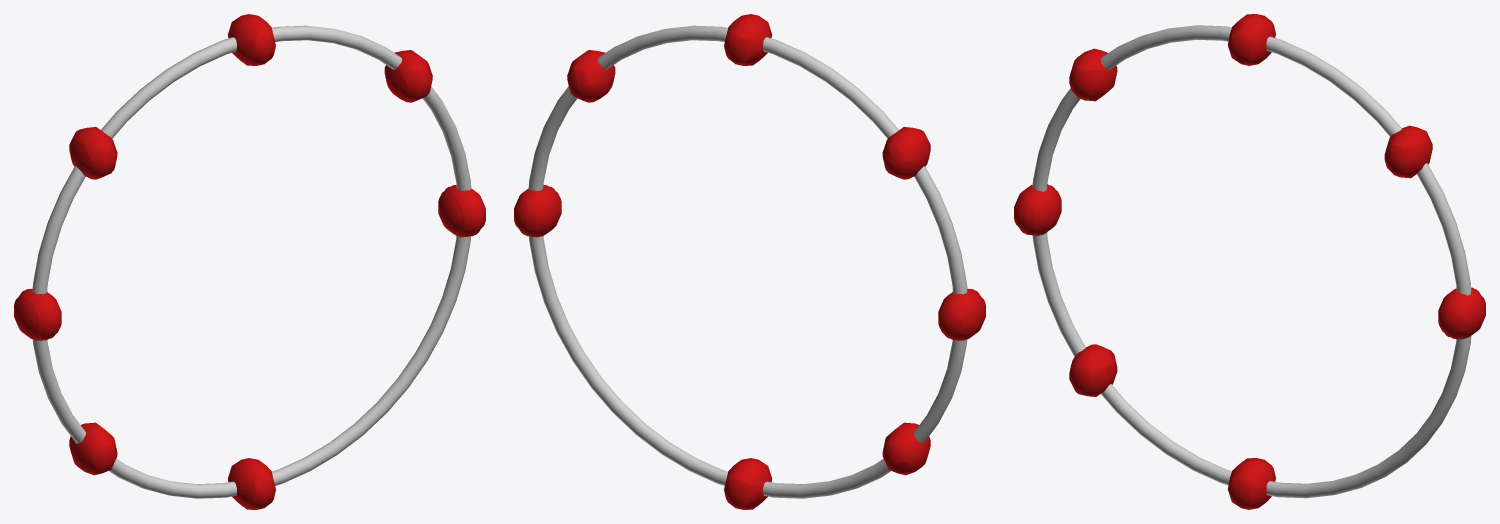
3 views of the same model, side by side, from view 1: azimuth 30°, elevation 25°; view 2: azimuth 150°, elevation 25°; view 3: azimuth 330°, elevation 25° (orthographic).
Parts seen in each view (by area): view 1: Ring_Torus, Electron_Mball, Electron.001_Mball.004; view 2: Ring_Torus, Electron_Mball, Electron.001_Mball.004; view 3: Ring_Torus, Electron_Mball, Electron.001_Mball.004.
Part boxes in pixels (x1,y1,x2,y2): Ring_Torus: [32, 25, 471, 498]; Electron_Mball: [14, 14, 485, 509]; Electron.001_Mball.004: [15, 186, 485, 340]; Ring_Torus: [528, 25, 967, 498]; Electron_Mball: [514, 14, 985, 509]; Electron.001_Mball.004: [514, 186, 984, 340]; Ring_Torus: [1032, 25, 1471, 498]; Electron_Mball: [1014, 14, 1484, 509]; Electron.001_Mball.004: [1014, 184, 1485, 339].
Bounding box in the file's own units: 2.15 × 2.19 × 0.25.
